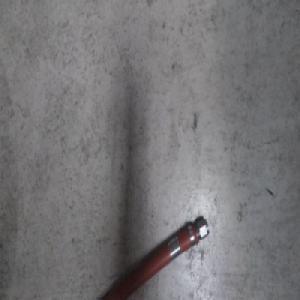Hose: (72, 213, 210, 300)
